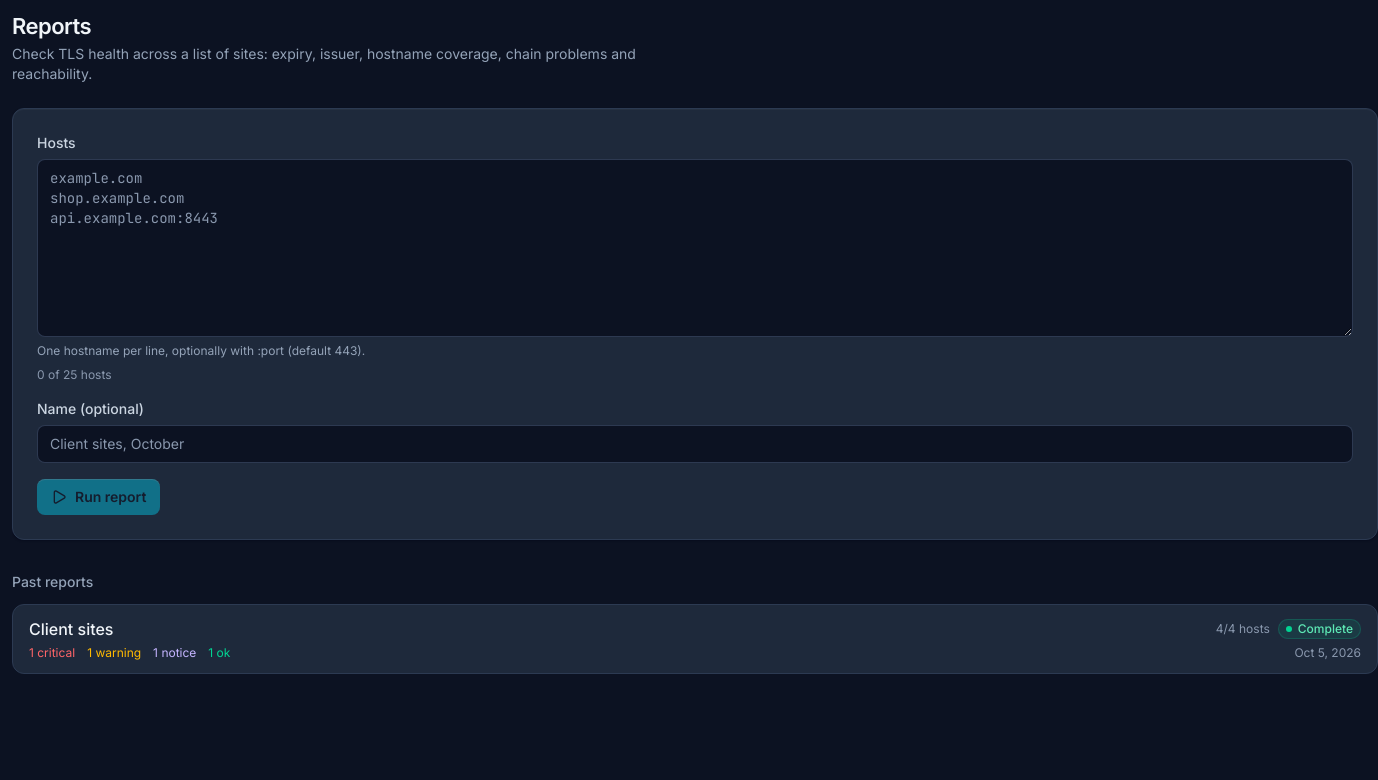
Reports page › shows validation errors from the API
Type "10.0.0.1" into the text box labelled "Hosts" at (695, 248), box [37,159,1353,337]
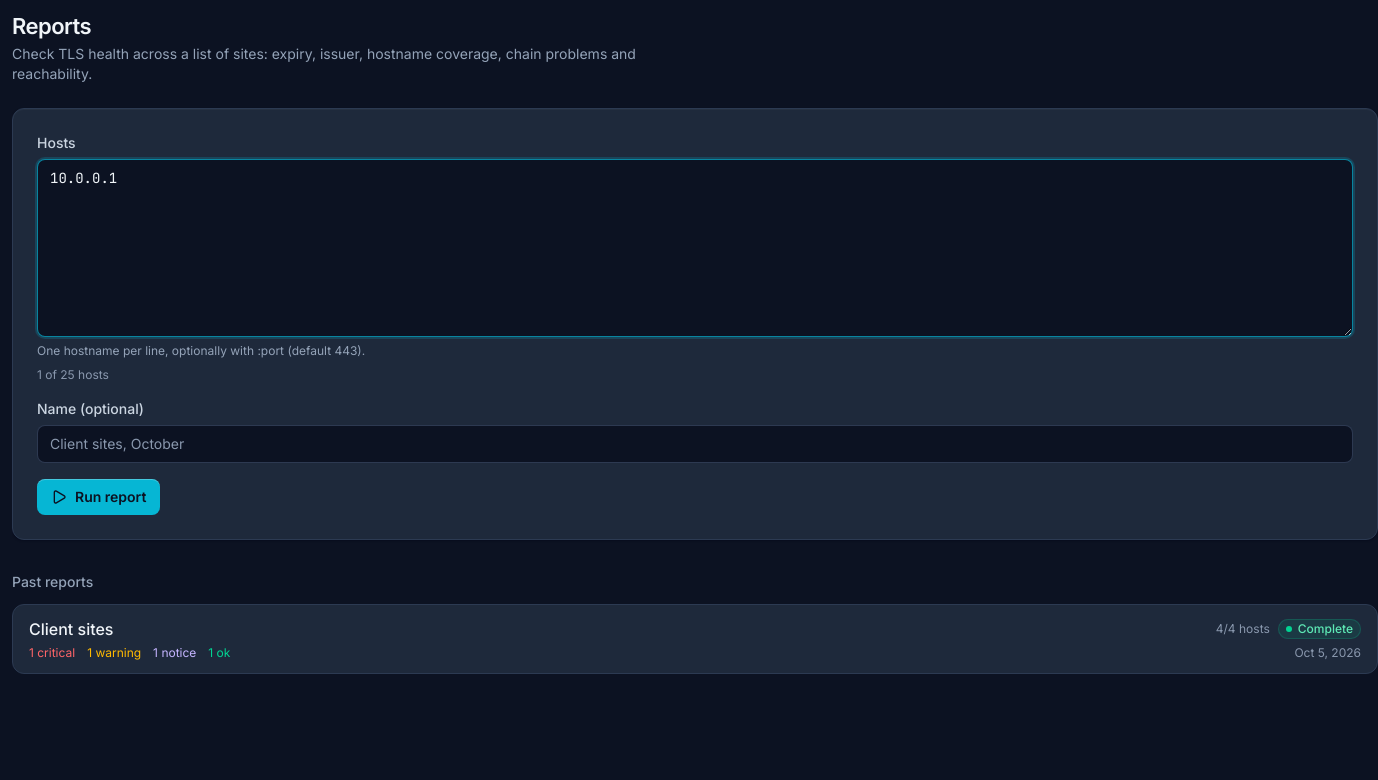
Click the button "Run report" at (99, 497), box [37,479,160,515]
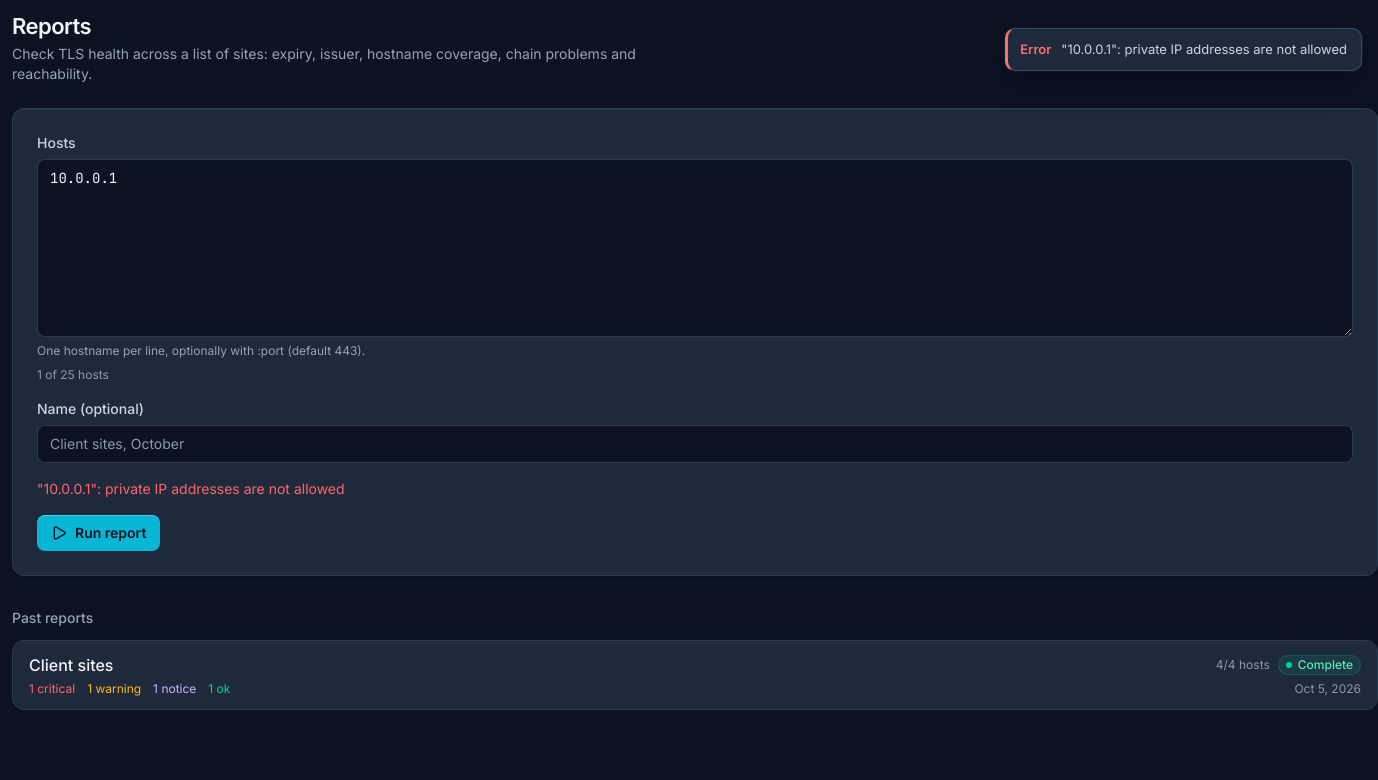
Now the message shows "private IP addresses are not allowed", box [37,480,345,497]
